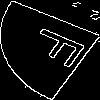F: (25, 25, 100, 74)
